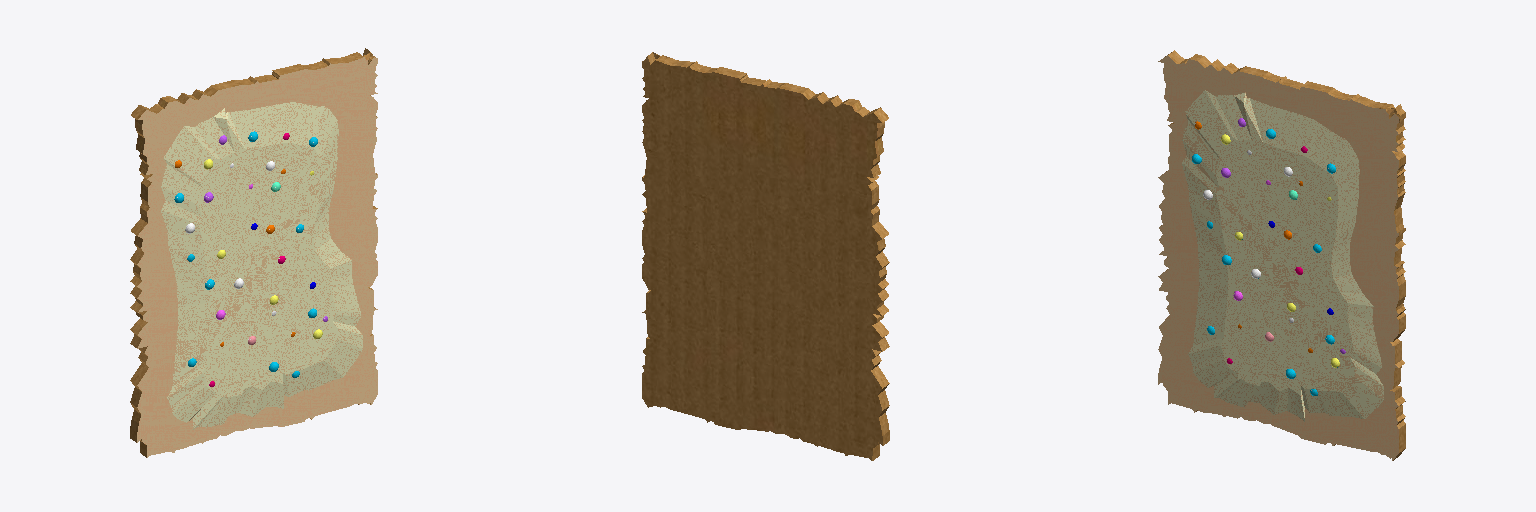
The picture shows the model from 3 angles: view 1: azimuth 30°, elevation 25°; view 2: azimuth 150°, elevation 25°; view 3: azimuth 330°, elevation 25°; orthographic projection.
Parts seen in each view (by area): view 1: Mesh117 Group1 Model, Mesh52 Group19 Group1 Model, Mesh116 Group1 Model; view 2: Mesh116 Group1 Model; view 3: Mesh117 Group1 Model, Mesh52 Group19 Group1 Model, Mesh116 Group1 Model.
Boxes of the visible parts, x1=… form: Mesh117 Group1 Model: x1=161, y1=102, x2=362, y2=429; Mesh52 Group19 Group1 Model: x1=137, y1=57, x2=377, y2=457; Mesh116 Group1 Model: x1=130, y1=48, x2=377, y2=457; Mesh116 Group1 Model: x1=642, y1=52, x2=889, y2=460; Mesh117 Group1 Model: x1=1182, y1=90, x2=1383, y2=421; Mesh52 Group19 Group1 Model: x1=1158, y1=55, x2=1398, y2=460; Mesh116 Group1 Model: x1=1161, y1=50, x2=1405, y2=460.
Bounding box in the file's own units: 17.38 × 24.34 × 1.41.
Materials: 21 (2 with a texture image).